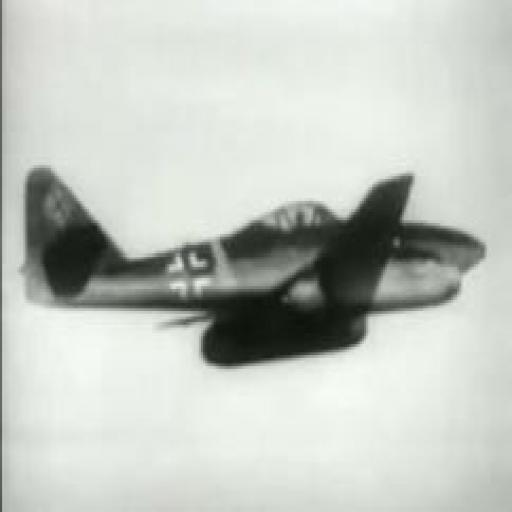aircraft: (25, 168, 489, 372)
